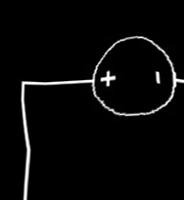Battery: (78, 26, 182, 127)
